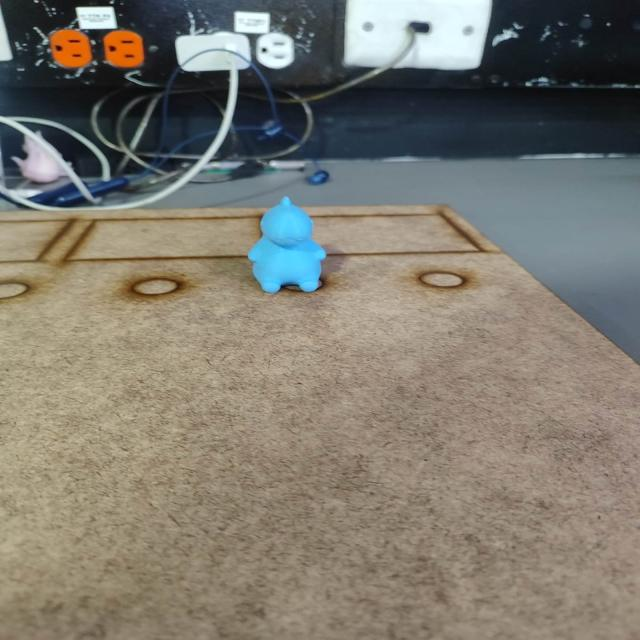DINO: (230, 178, 334, 303)
